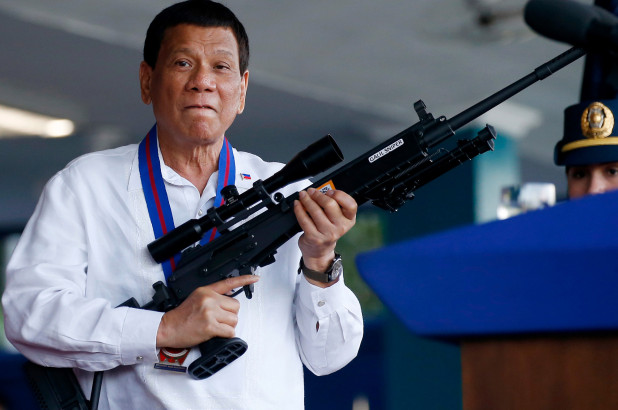rifle: (110, 26, 616, 379)
